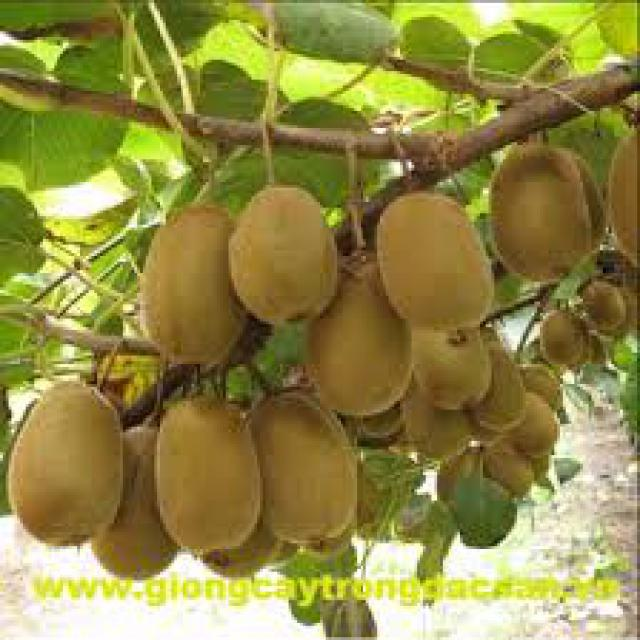kiwi: (4, 379, 121, 547), (244, 391, 356, 548), (141, 203, 244, 363), (307, 254, 410, 414), (155, 396, 258, 553), (375, 189, 490, 329), (230, 183, 336, 328), (487, 143, 590, 280), (93, 425, 176, 579), (407, 308, 490, 408), (407, 354, 473, 459), (469, 334, 524, 428), (607, 118, 639, 263), (507, 388, 559, 456), (541, 309, 593, 360)
